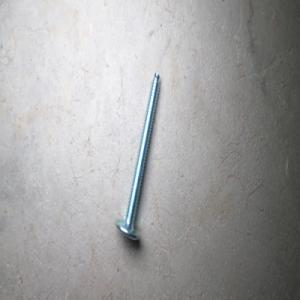Bolt: (113, 71, 160, 241)
